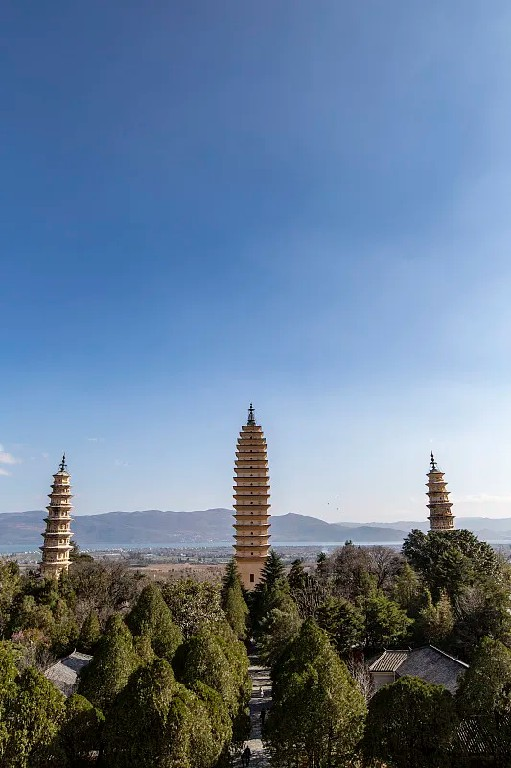ThreePagoda: (233, 402, 272, 592)
